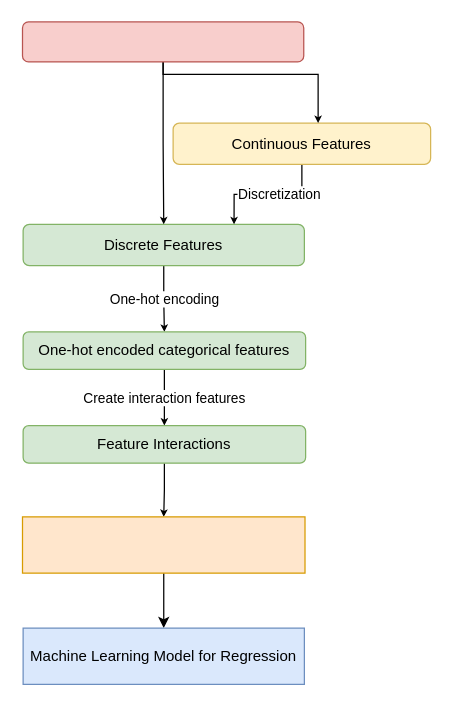
The diagram is 453 pixels wide and 706 high, and some of its shapes have lost their labels. The shapes that lost their labels are listed below. From the top down, each one's box as (x1, y1, x2, y2) in pixels, then its label:
(21, 21, 304, 62): Original Feature Space
(21, 516, 305, 573): Standard preprocessing techniques
